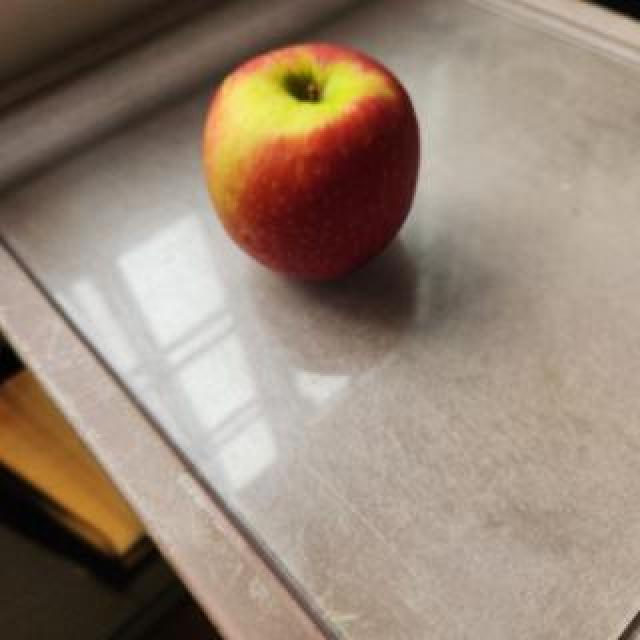Fresh Apple: (192, 42, 418, 283)
